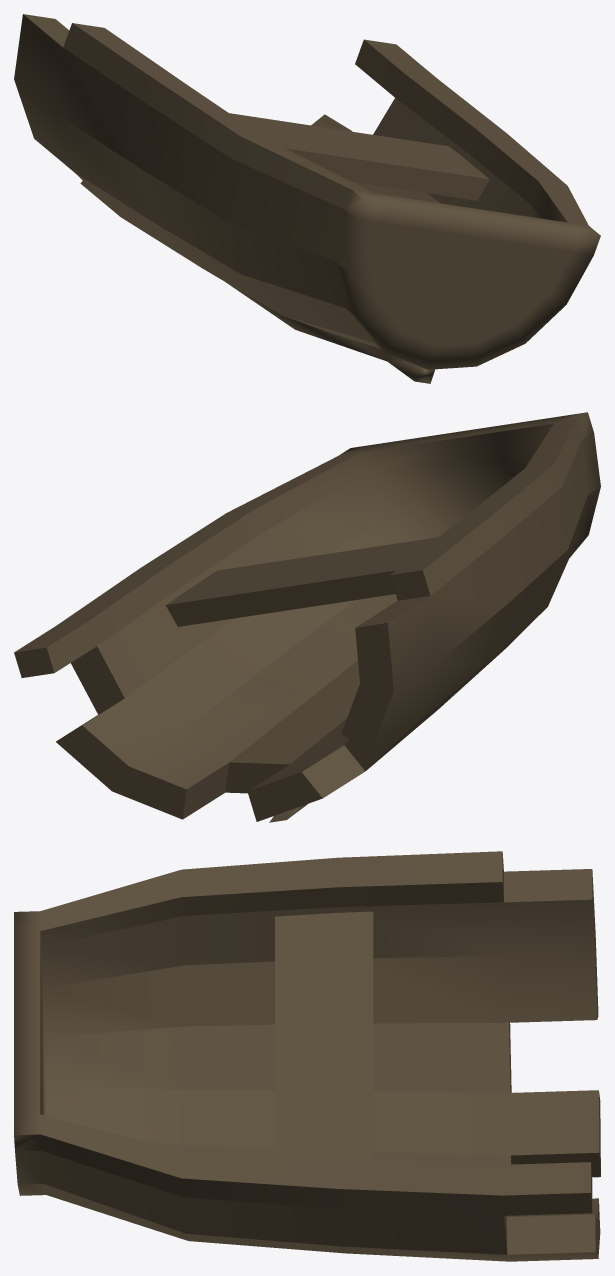
File: Boat Back.fbx
3 views of the same model, one above another, from view 1: azimuth 30°, elevation 25°; view 2: azimuth 150°, elevation 25°; view 3: azimuth 270°, elevation 25° (orthographic). The views are drawn at different scales.
Parts seen in each view (by area): view 1: polySurface1; view 2: polySurface1; view 3: polySurface1.
Part boxes in pixels (left/top/right/bottom): polySurface1: left=14, top=14, right=600, bottom=383; polySurface1: left=14, top=412, right=600, bottom=822; polySurface1: left=14, top=851, right=600, bottom=1261.
Size of the model in its own units: 2.68 by 1.78 by 3.34.
